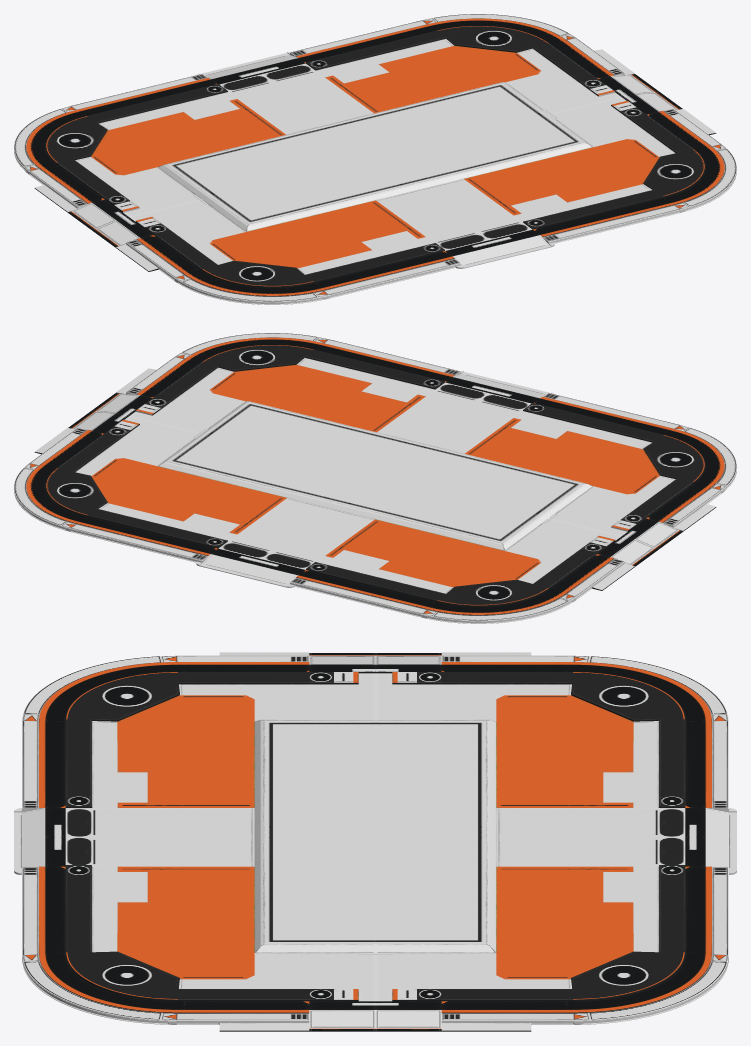
Rendered from GymPlate.fbx.
3 views of the same model, one above another, from view 1: azimuth 30°, elevation 25°; view 2: azimuth 150°, elevation 25°; view 3: azimuth 270°, elevation 25° (orthographic). The views are drawn at different scales.
Parts seen in each view (by area): view 1: GymPlate001; view 2: GymPlate001; view 3: GymPlate001.
Boxes of the visible parts, <box> form: GymPlate001: <box>14,14,736,304</box>; GymPlate001: <box>14,333,736,623</box>; GymPlate001: <box>14,652,736,1031</box>.
Bounding box in the file's own units: 3042 × 38.23 × 2457.
Materials: 1 (1 with a texture image).
